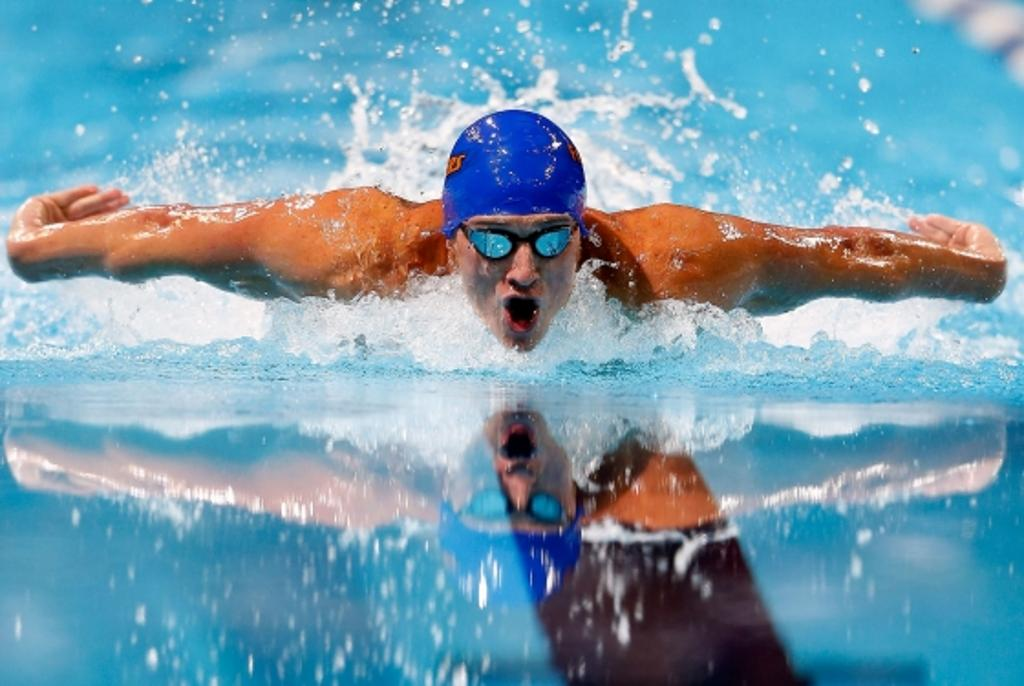face: (460, 176, 574, 344)
